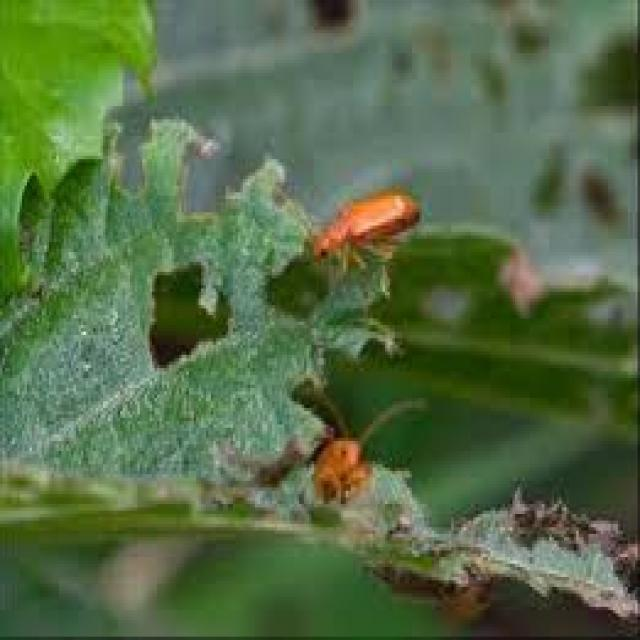Pumpkin Beetle: (294, 368, 440, 511), (284, 188, 432, 272)
